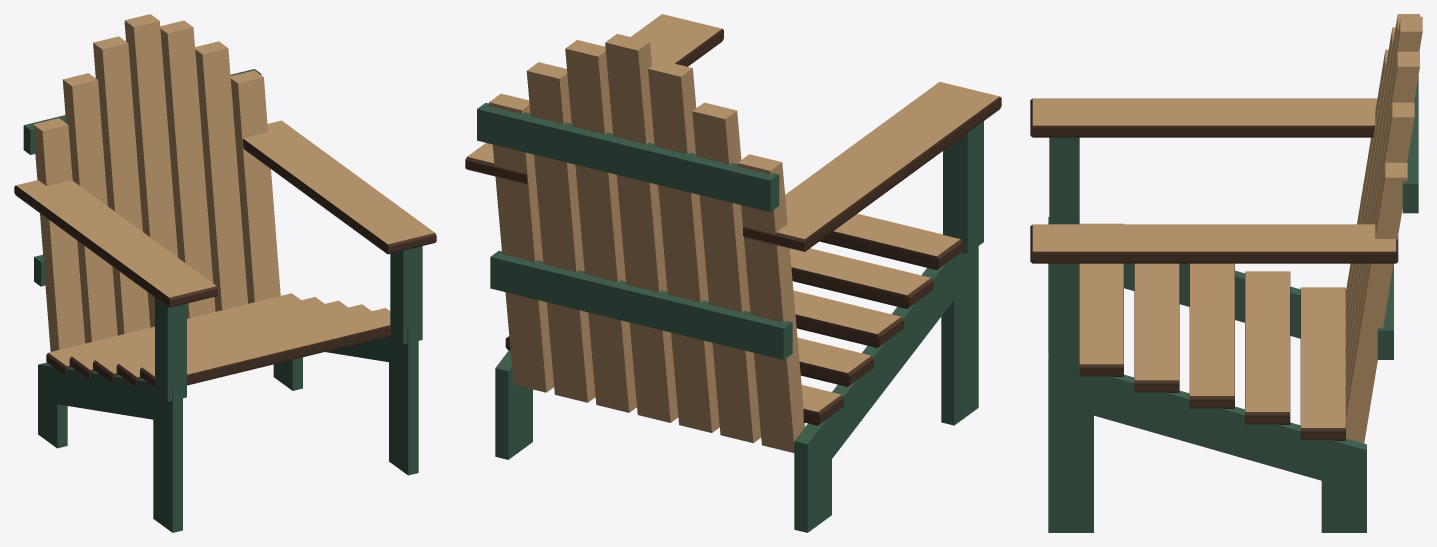
File: FN_Chair_Adirondack.obj
3 renders of one model, left to right at view 1: azimuth 30°, elevation 25°; view 2: azimuth 150°, elevation 25°; view 3: azimuth 270°, elevation 25°, orthographic. The views are drawn at different scales.
Parts seen in each view (by area): view 1: FN_Chair_Adirondack; view 2: FN_Chair_Adirondack; view 3: FN_Chair_Adirondack.
Boxes of the visible parts, x1,y1,x2,y2 form: FN_Chair_Adirondack: (14,14,436,532); FN_Chair_Adirondack: (465,14,1001,532); FN_Chair_Adirondack: (1030,14,1422,532).
Bounding box in the file's own units: 0.72 × 0.955 × 0.776.
Materials: 1 (1 with a texture image).
